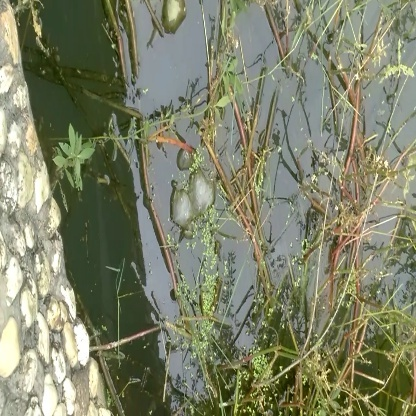plastic-bag: (164, 150, 222, 233)
